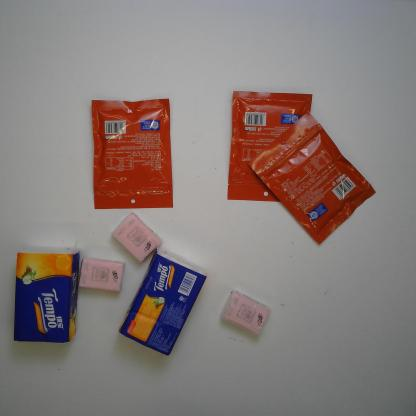Dried Fruit: (246, 110, 377, 246), (227, 90, 313, 202), (90, 97, 174, 210)
Tissue: (117, 245, 208, 356), (12, 245, 81, 345), (110, 212, 164, 264), (219, 288, 272, 336), (77, 255, 126, 293)
